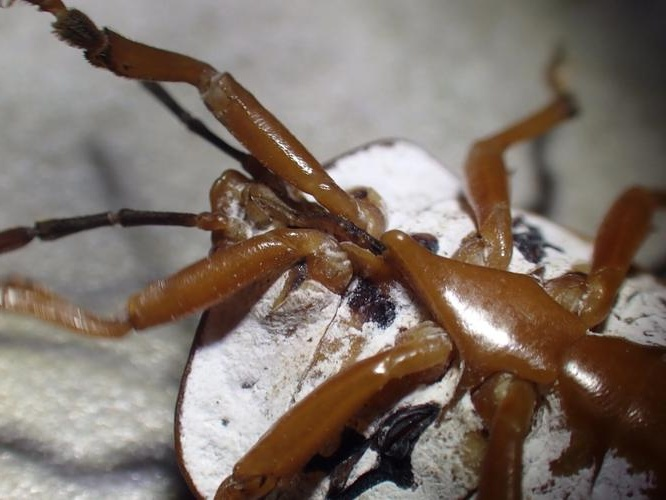Stink_Bug: (138, 94, 614, 498)
